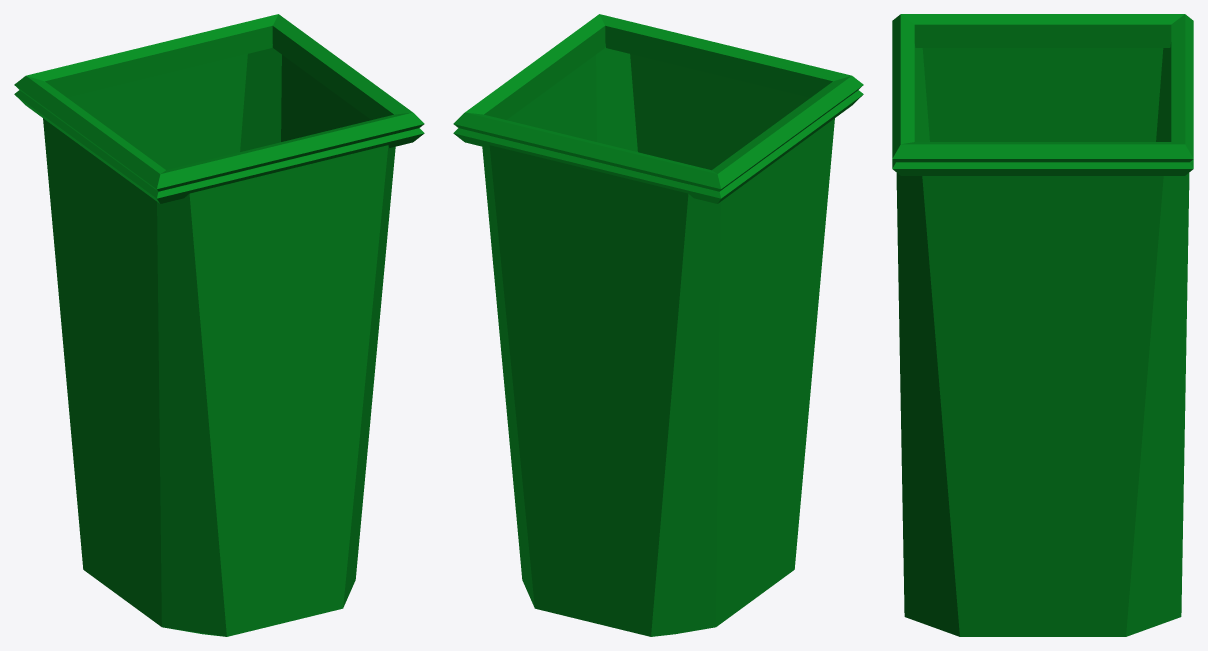
The model's file is cllect_Bin.fbx.
3 views of the same model, side by side, from view 1: azimuth 30°, elevation 25°; view 2: azimuth 150°, elevation 25°; view 3: azimuth 270°, elevation 25° (orthographic). The views are drawn at different scales.
Visible parts, largest first — view 1: Cube; view 2: Cube; view 3: Cube.
Boxes of the visible parts, box(x1,y1,x2,y2) form: Cube: box(14, 14, 424, 636); Cube: box(453, 14, 863, 636); Cube: box(892, 14, 1193, 636).
Size of the model in its own units: 562 by 1004 by 518.
